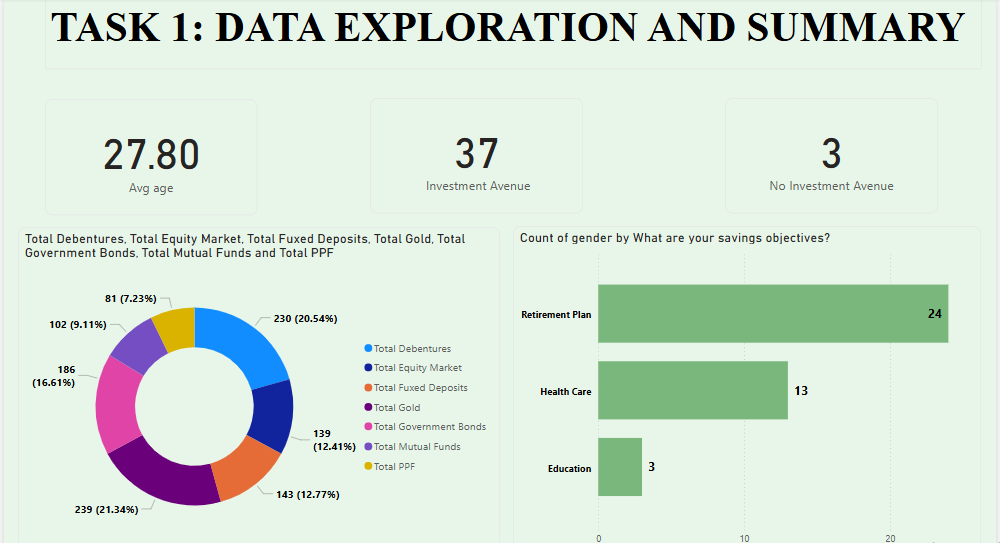

The page's visual inventory and layout, read from the dashboard file:
{"tool":"powerbi","page":{"name":"Task1","canvas":[1280,720],"ordinal":0},"visuals":[{"type":"textbox","box":[52.4,0,1209,92.1],"z":0},{"type":"card","fields":{"Values":["Data_set 2.Avg age"]},"box":[52.8,129.9,274,149.8],"z":1000},{"type":"donutChart","fields":{"Y":["Data_set 2.Total Debentures","Data_set 2.Total Equity Market","Data_set 2.Total Fuxed Deposits","Data_set 2.Total Gold","Data_set 2.Total Government Bonds","Data_set 2.Total Mutual Funds","Data_set 2.Total PPF"]},"box":[18.6,295.4,622.2,425.2],"z":2000},{"type":"barChart","fields":{"Category":["Data_set 2.What are your savings objectives?"],"Y":["CountNonNull(Data_set 2.gender)"]},"box":[656.2,294.8,603.8,425.2],"z":3000},{"type":"card","fields":{"Values":["Data_set 2.Yes Investment Avenue"]},"box":[472,129,275,148.8],"z":4000},{"type":"card","fields":{"Values":["Data_set 2.No Investment Avenue"]},"box":[929.8,129,275,148.8],"z":5000}]}

Visuals, with their boxes on the page's 1280x720 design canvas (x1, y1, x2, y2). These are canvas units, not pixel positions in the 1000x543 screenshot, which may show the page scaled, cropped or inside an application window:
textbox: select_region(52, 0, 1261, 92)
card - Data_set 2.Avg age: select_region(53, 130, 327, 280)
donutChart - Data_set 2.Total Debentures x Data_set 2.Total Equity Market: select_region(19, 295, 641, 721)
barChart - Data_set 2.What are your savings objectives? x CountNonNull(Data_set 2.gender): select_region(656, 295, 1260, 720)
card - Data_set 2.Yes Investment Avenue: select_region(472, 129, 747, 278)
card - Data_set 2.No Investment Avenue: select_region(930, 129, 1205, 278)
